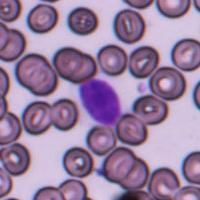L: (80, 75, 123, 127)
